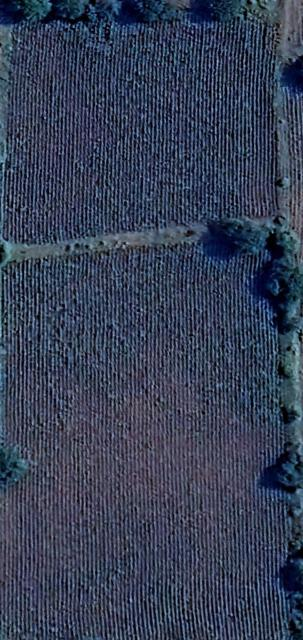Farms: (5, 228, 297, 640), (3, 5, 284, 243)
